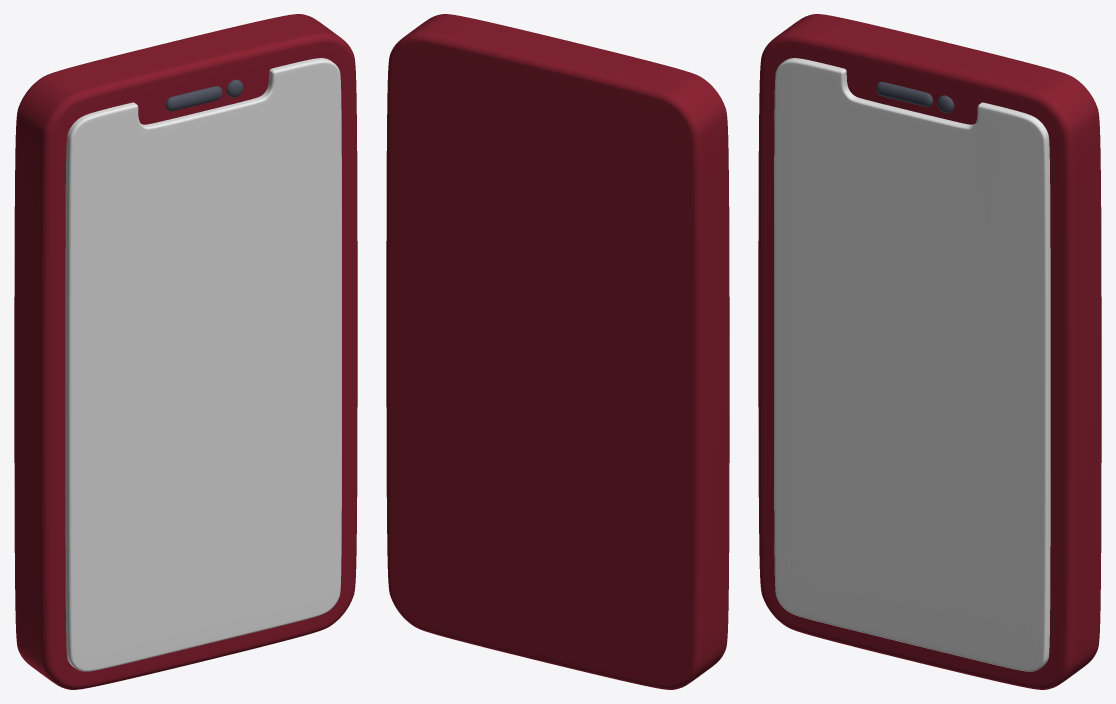
Rendered from mobile.fbx.
3 views of the same model, side by side, from view 1: azimuth 30°, elevation 25°; view 2: azimuth 150°, elevation 25°; view 3: azimuth 330°, elevation 25° (orthographic).
Visible parts, largest first — view 1: Cube.001; view 2: Cube.001; view 3: Cube.001.
Boxes of the visible parts, x1,y1,x2,y2 form: Cube.001: (14, 14, 357, 689); Cube.001: (386, 14, 729, 689); Cube.001: (758, 14, 1101, 689).
Size of the model in its own units: 107 by 194 by 21.4.
